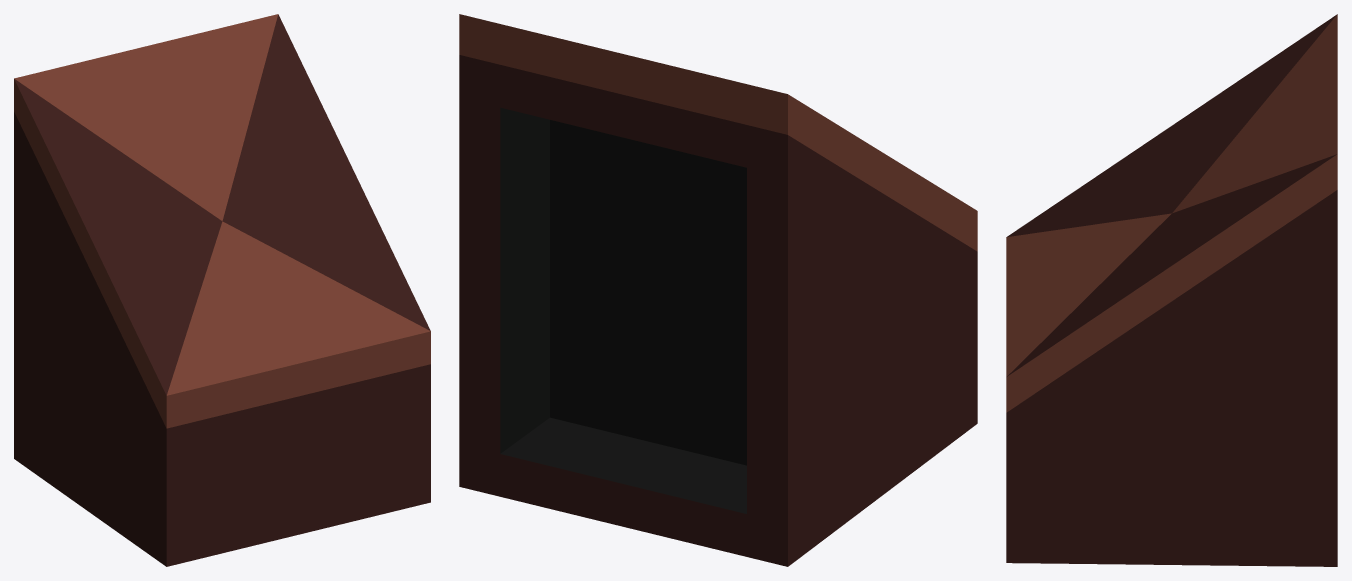
File: Mine model.fbx
The picture shows the model from 3 angles, left to right: view 1: azimuth 30°, elevation 25°; view 2: azimuth 150°, elevation 25°; view 3: azimuth 270°, elevation 25°; orthographic projection. The views are drawn at different scales.
Parts seen in each view (by area): view 1: Cube.003; view 2: Cube.003; view 3: Cube.003.
Boxes of the visible parts, left/top/right/bottom form: Cube.003: left=14, top=14, right=430, bottom=566; Cube.003: left=459, top=14, right=977, bottom=566; Cube.003: left=1006, top=14, right=1337, bottom=566.
Bounding box in the file's own units: 251 × 345 × 251.
